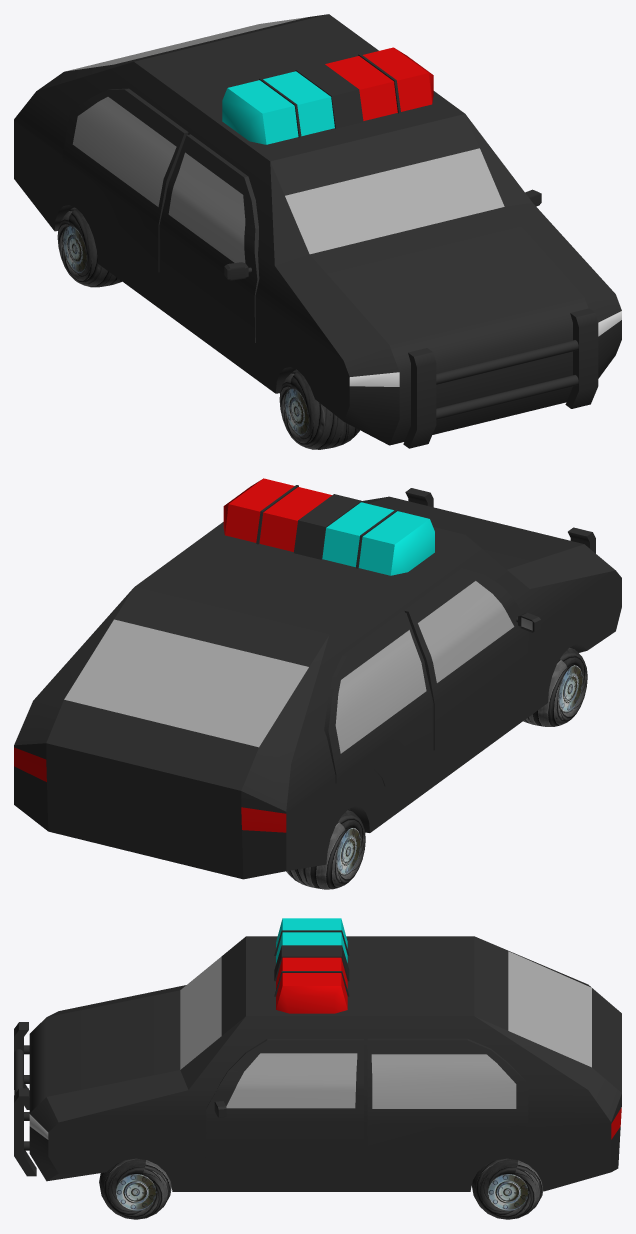
File: police car.fbx
3 views of the same model, one above another, from view 1: azimuth 30°, elevation 25°; view 2: azimuth 150°, elevation 25°; view 3: azimuth 270°, elevation 25° (orthographic). The views are drawn at different scales.
Parts seen in each view (by area): view 1: car, siren, FrontWheelR, BackWheelR; view 2: car, siren, BackWheelR, FrontWheelR; view 3: car, siren, FrontWheelL, BackWheelL.
Boxes of the visible parts, box(x1,y1,x2,y2) form: car: box(14, 14, 621, 448); siren: box(222, 47, 433, 144); FrontWheelR: box(279, 369, 359, 449); BackWheelR: box(57, 207, 121, 287); car: box(14, 488, 621, 879); siren: box(223, 478, 434, 575); BackWheelR: box(286, 809, 365, 889); FrontWheelR: box(523, 647, 587, 726); car: box(14, 936, 621, 1191); siren: box(274, 918, 349, 1013); FrontWheelL: box(99, 1158, 171, 1219); BackWheelL: box(471, 1158, 543, 1219).
Size of the model in its own units: 4.26 by 3.4 by 8.51.
